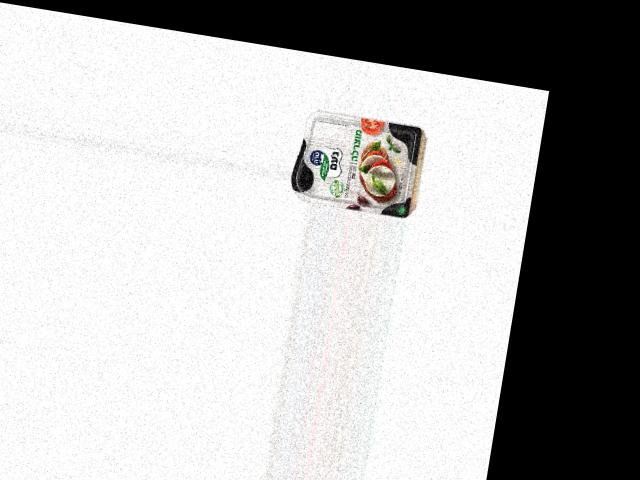cheese: (289, 107, 424, 218)
